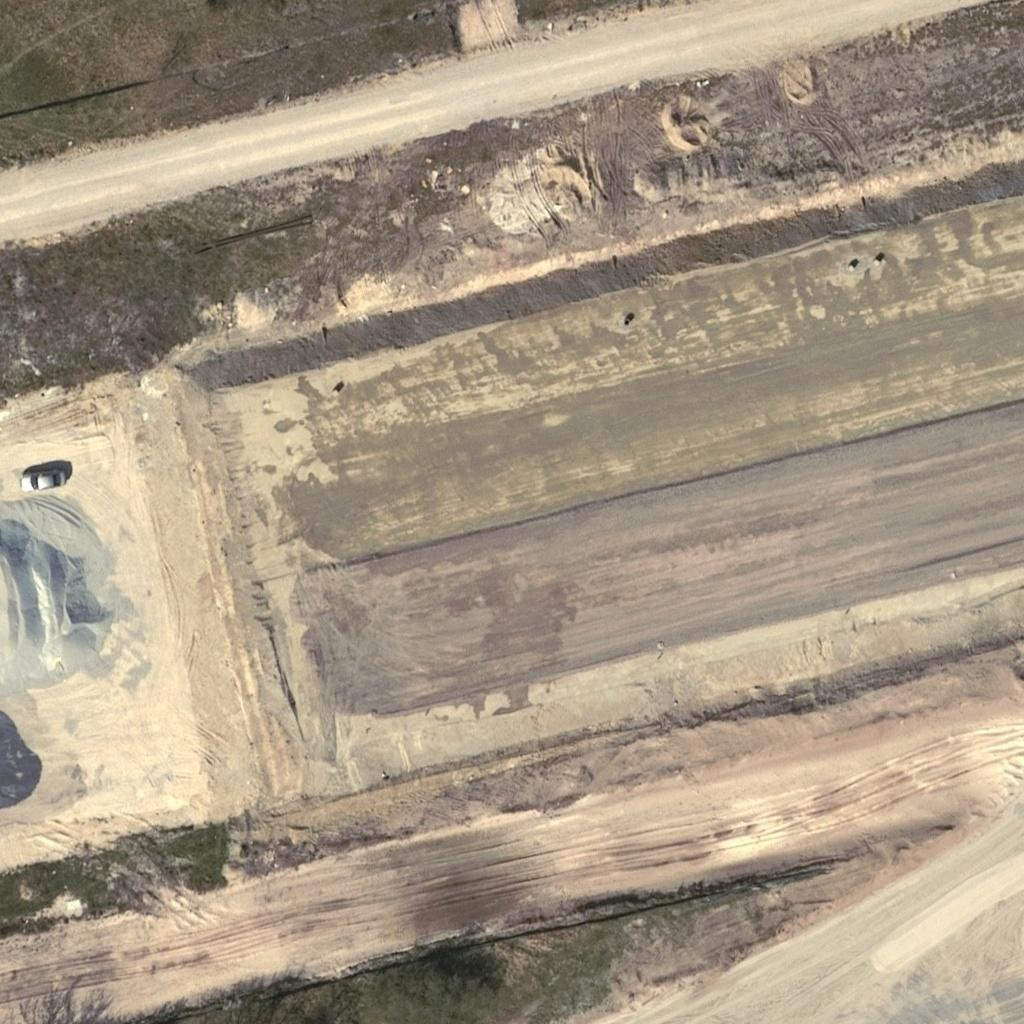samochod_osobowy: (17, 468, 67, 494)
